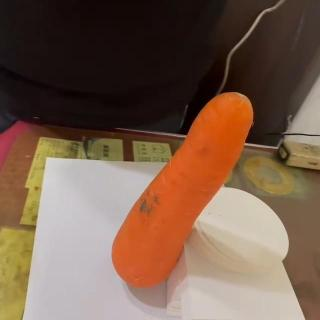carrot: (110, 90, 254, 292)
